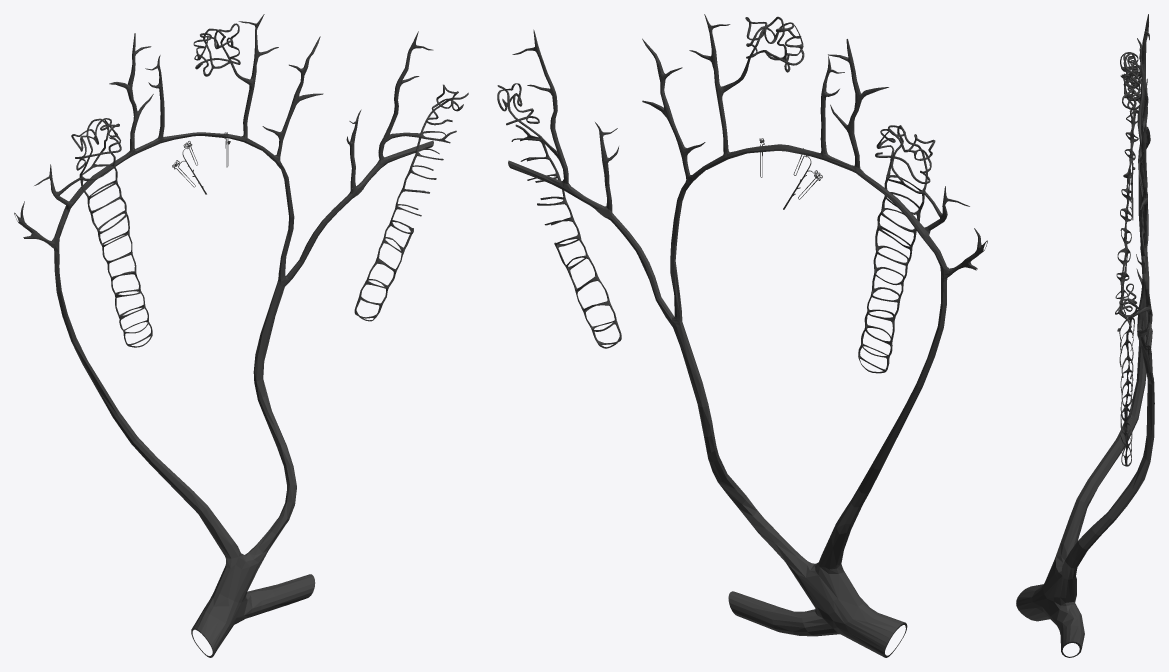
Rendered from sharedassets81.glb.
The picture shows the model from 3 angles, left to right: view 1: azimuth 30°, elevation 25°; view 2: azimuth 150°, elevation 25°; view 3: azimuth 270°, elevation 25°; orthographic projection. The views are drawn at different scales.
Visible parts, largest first — view 1: 0003_Renal vein__302500, 0006_Interlobular veins__302468, 0004_Interlobar veins__302466, 0005_Arcuate veins__302443, 0030_Vesa recta_juxtamedullary1_302505, 0040_Vesa recta_juxtamedullary2_302506, 0031_Peritubular capillaries_juxtamedullary1_, 0021_Peritubular capillaries_cortical_302481; view 2: 0003_Renal vein__302500, 0006_Interlobular veins__302468, 0004_Interlobar veins__302466, 0005_Arcuate veins__302443, 0030_Vesa recta_juxtamedullary1_302505, 0040_Vesa recta_juxtamedullary2_302506, 0021_Peritubular capillaries_cortical_302481, 0031_Peritubular capillaries_juxtamedullary1_; view 3: 0003_Renal vein__302500, 0004_Interlobar veins__302466, 0006_Interlobular veins__302468, 0040_Vesa recta_juxtamedullary2_302506, 0030_Vesa recta_juxtamedullary1_302505, 0021_Peritubular capillaries_cortical_302481, 0005_Arcuate veins__302443, 0041_Peritubular capillaries_justamedullary2_, 0031_Peritubular capillaries_juxtamedullary1_.
Boxes of the visible parts, <box> form: 0003_Renal vein__302500: <box>131,410,315,657</box>; 0006_Interlobular veins__302468: <box>14,14,433,244</box>; 0004_Interlobar veins__302466: <box>54,178,347,443</box>; 0005_Arcuate veins__302443: <box>49,132,433,258</box>; 0030_Vesa recta_juxtamedullary1_302505: <box>79,163,152,347</box>; 0040_Vesa recta_juxtamedullary2_302506: <box>354,129,456,321</box>; 0031_Peritubular capillaries_juxtamedullary1_: <box>71,118,121,173</box>; 0021_Peritubular capillaries_cortical_302481: <box>193,23,240,76</box>; 0003_Renal vein__302500: <box>709,456,907,657</box>; 0006_Interlobular veins__302468: <box>512,14,987,273</box>; 0004_Interlobar veins__302466: <box>615,200,946,493</box>; 0005_Arcuate veins__302443: <box>508,144,952,289</box>; 0030_Vesa recta_juxtamedullary1_302505: <box>858,173,926,373</box>; 0040_Vesa recta_juxtamedullary2_302506: <box>511,124,621,348</box>; 0021_Peritubular capillaries_cortical_302481: <box>744,16,804,72</box>; 0031_Peritubular capillaries_juxtamedullary1_: <box>875,125,935,186</box>; 0003_Renal vein__302500: <box>1016,414,1138,657</box>; 0004_Interlobar veins__302466: <box>1129,179,1154,491</box>; 0006_Interlobular veins__302468: <box>1132,14,1152,326</box>; 0040_Vesa recta_juxtamedullary2_302506: <box>1117,316,1134,466</box>; 0030_Vesa recta_juxtamedullary1_302505: <box>1115,105,1138,314</box>; 0021_Peritubular capillaries_cortical_302481: <box>1120,52,1143,115</box>; 0005_Arcuate veins__302443: <box>1137,126,1152,350</box>; 0041_Peritubular capillaries_justamedullary2_: <box>1118,283,1140,327</box>; 0031_Peritubular capillaries_juxtamedullary1_: <box>1123,60,1141,118</box>.
Size of the model in its own units: 1.5 by 1.91 by 0.4012.
Materials: 1 (1 with a texture image).
